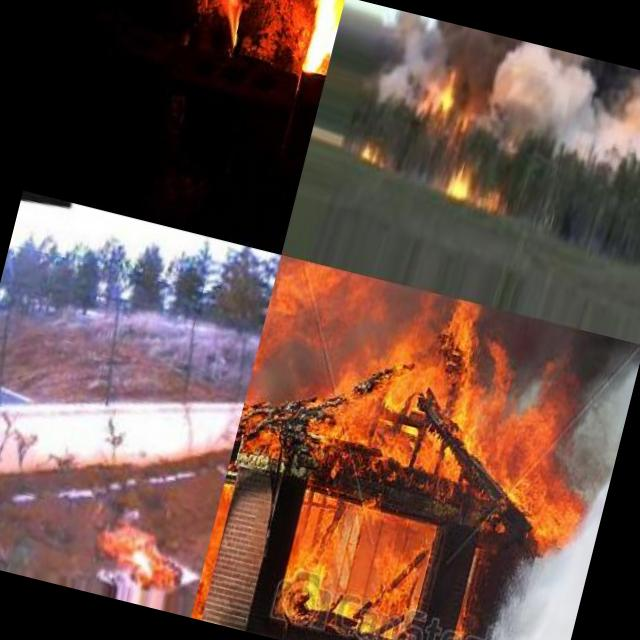fire: (232, 254, 622, 536), (267, 506, 432, 640), (164, 0, 345, 75), (84, 508, 192, 592), (428, 152, 507, 215), (413, 61, 463, 128), (348, 132, 392, 174)
smoke: (468, 33, 640, 186)
